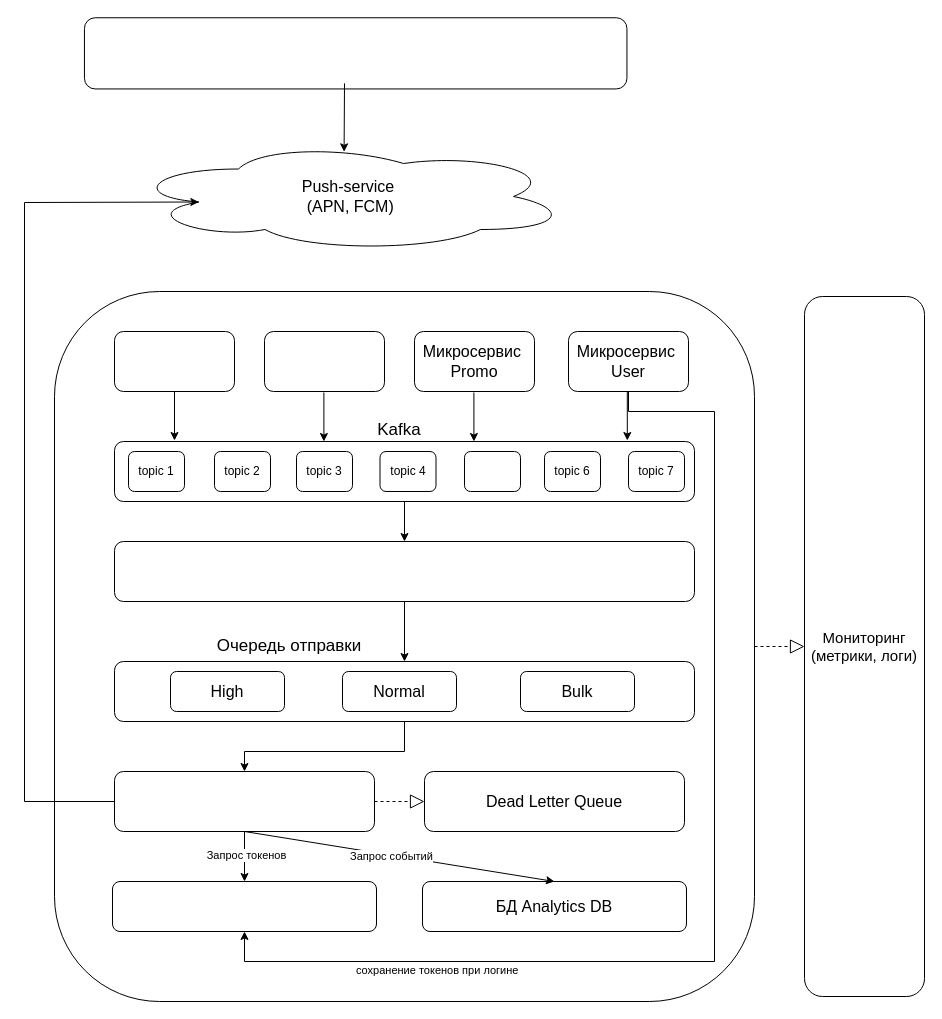
Image size: 942x1019. Some labels were removed from this diagram. Here are the shapes that lost their labels. From the top down, the centre of each, then its label:
At point 355,53: "Клиент".
At point 174,361: "Микросервис Cart".
At point 324,361: "Микросервис Order".
At point 492,471: "topic 5".
At point 404,571: "Push Orchestrator".
At point 244,801: "Push Gateway".
At point 244,906: "БД Token DB".
